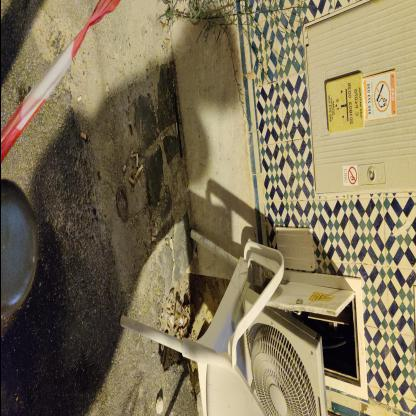kopuk: (2, 1, 118, 163), (135, 166, 143, 181), (129, 178, 135, 186), (81, 134, 87, 142), (151, 238, 157, 244), (136, 154, 138, 168), (78, 96, 82, 103), (171, 240, 173, 253)
